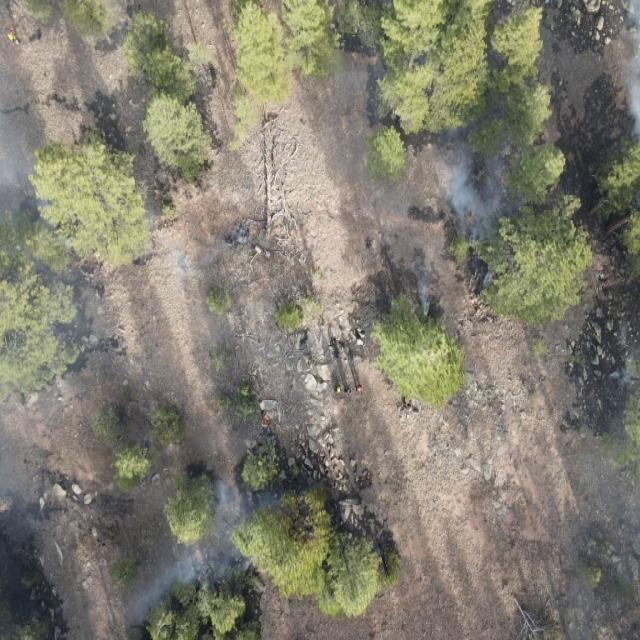fire: (262, 416, 270, 428)
smoke: (2, 0, 514, 261), (0, 259, 289, 640), (587, 0, 640, 145), (364, 261, 454, 321)
